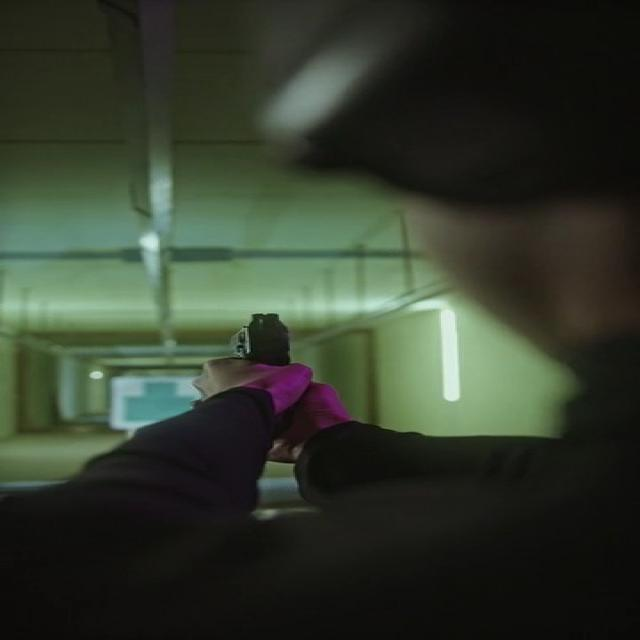Gun_Holder: (178, 300, 396, 465)
